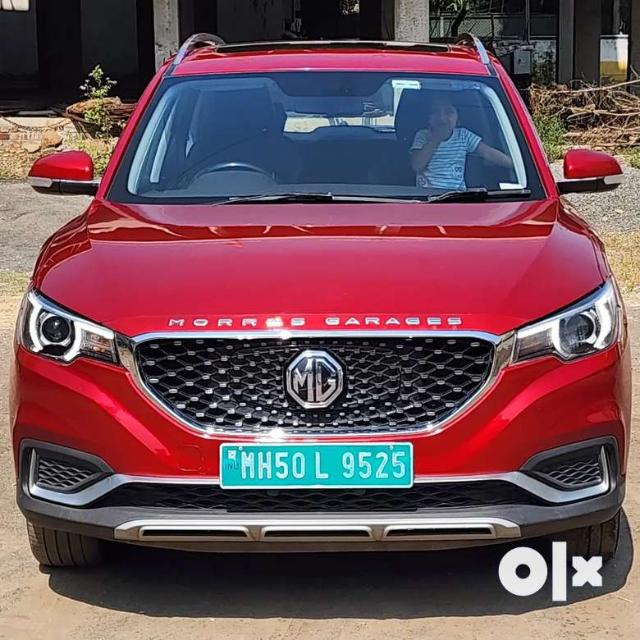Indian_Number_Plate: (222, 445, 412, 485)
